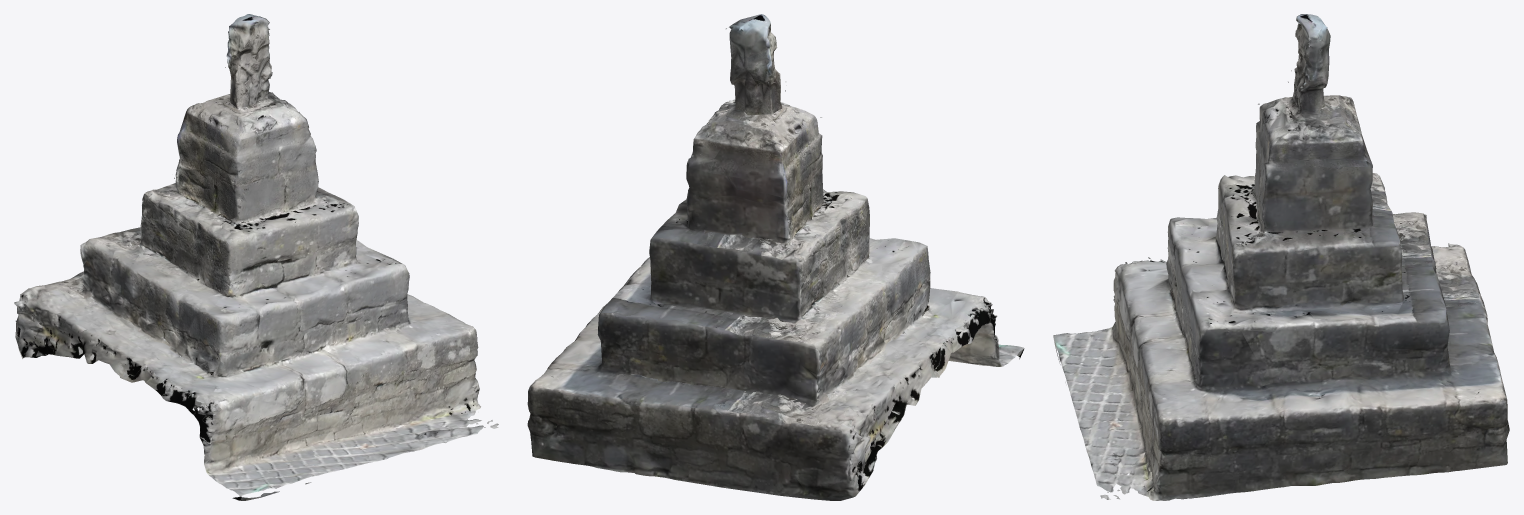
File: market_cross.glb
3 renders of one model, left to right at view 1: azimuth 30°, elevation 25°; view 2: azimuth 150°, elevation 25°; view 3: azimuth 270°, elevation 25°, orthographic. The views are drawn at different scales.
Parts seen in each view (by area): view 1: Object_2; view 2: Object_2; view 3: Object_2.
Boxes of the visible parts, x1,y1,x2,y2 form: Object_2: [14, 14, 498, 500]; Object_2: [527, 14, 1024, 500]; Object_2: [1053, 14, 1509, 500].
Size of the model in its own units: 13.48 by 14.86 by 15.28.
1 material, 1 textured.
